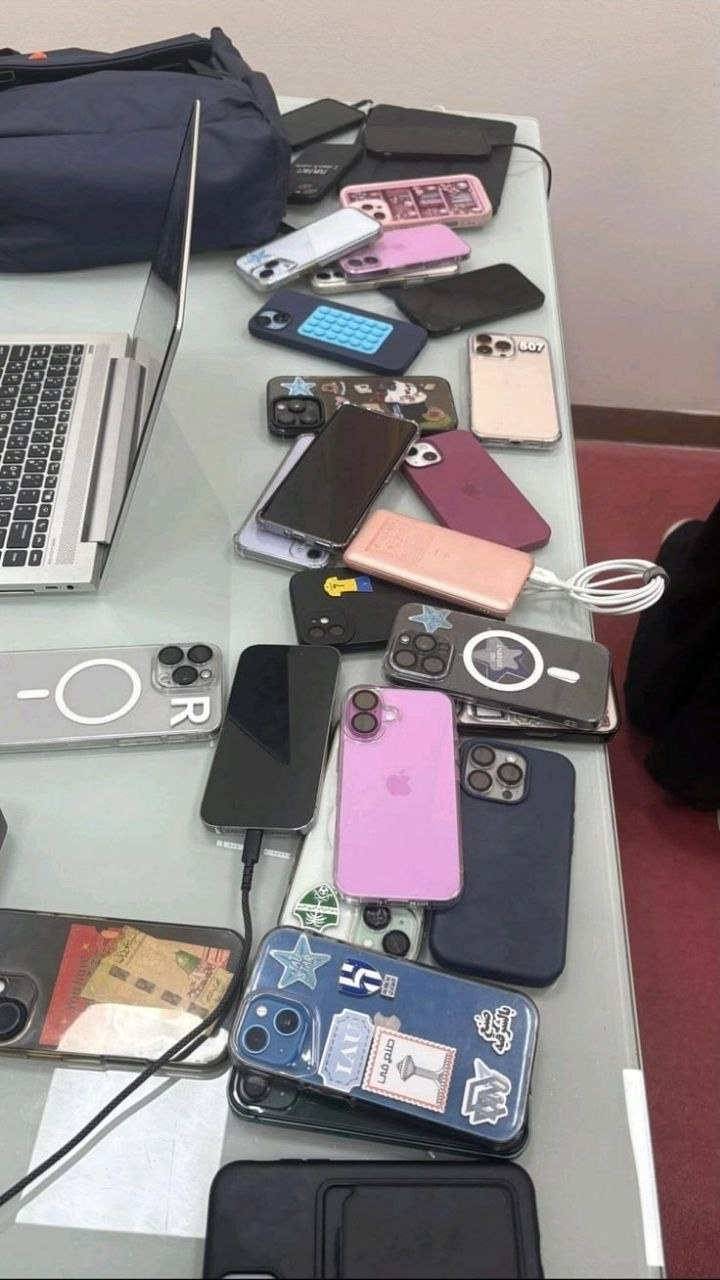cell phone: (226, 925, 540, 1159), (229, 1008, 532, 1156), (0, 908, 246, 1076), (202, 1159, 543, 1278), (428, 738, 575, 989), (234, 402, 420, 572), (382, 602, 612, 731), (332, 684, 464, 907), (199, 643, 340, 836), (1, 642, 223, 754), (255, 402, 420, 551), (400, 428, 551, 552), (248, 286, 428, 375), (289, 565, 435, 653), (234, 206, 382, 292), (380, 262, 545, 338), (266, 374, 458, 438), (466, 331, 562, 449), (311, 223, 471, 293), (338, 173, 493, 230), (312, 249, 465, 294), (286, 142, 364, 204), (279, 97, 365, 151), (362, 120, 491, 151)
laptop: (0, 98, 201, 596)
